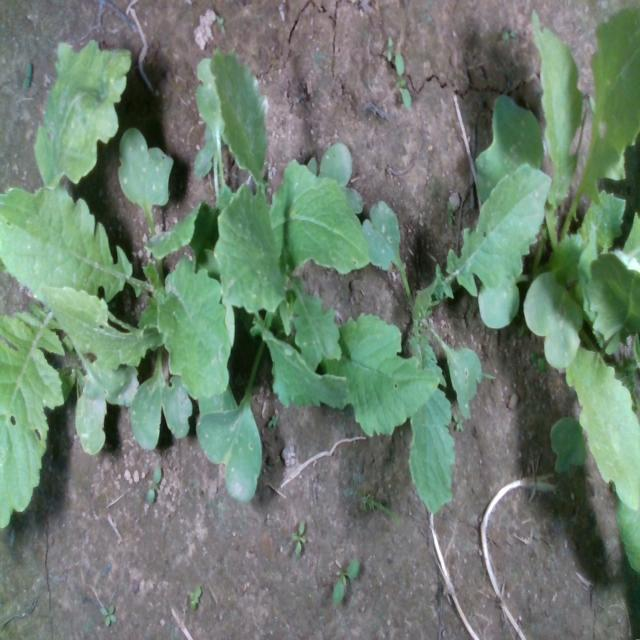weed: (330, 556, 360, 608), (394, 49, 412, 109), (290, 516, 306, 556), (146, 463, 162, 503), (186, 582, 202, 612), (99, 602, 117, 628), (21, 58, 33, 92), (214, 12, 224, 36), (385, 33, 393, 61)
